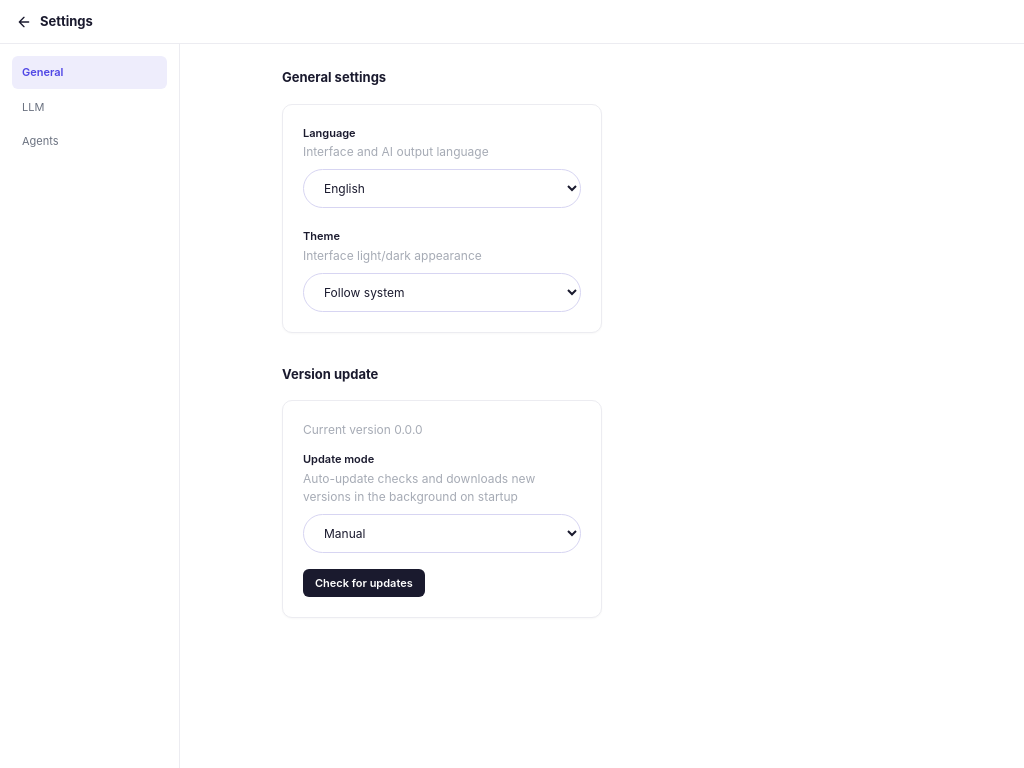
Test: Settings Page › should show provider list in LLM tab
This screenshot has width=1024, height=768.
What coordinates should you click on to do the following:
click the button "LLM"
I would click on:
 (90, 107)
Its box is [12, 90, 167, 123].
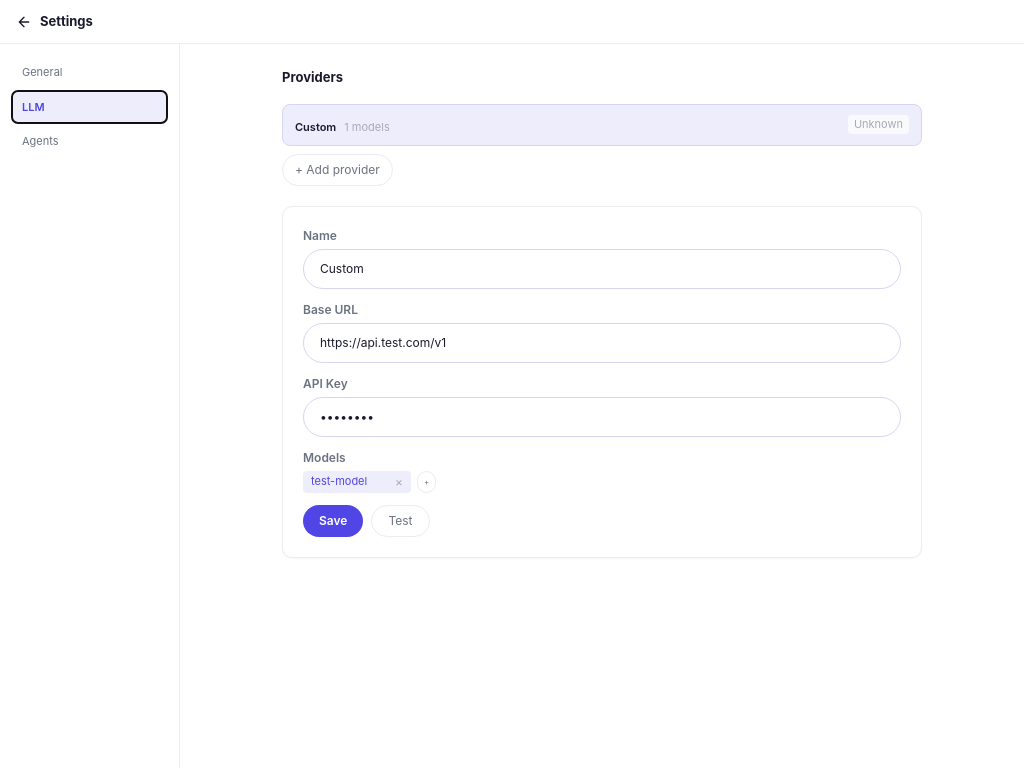
expect the heading "Providers" is shown: met, box [282, 69, 343, 85]
